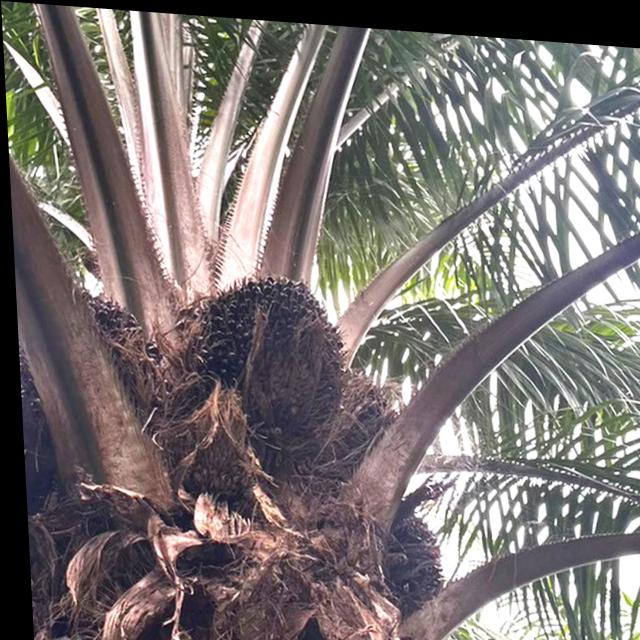unripe: (178, 258, 347, 440)
